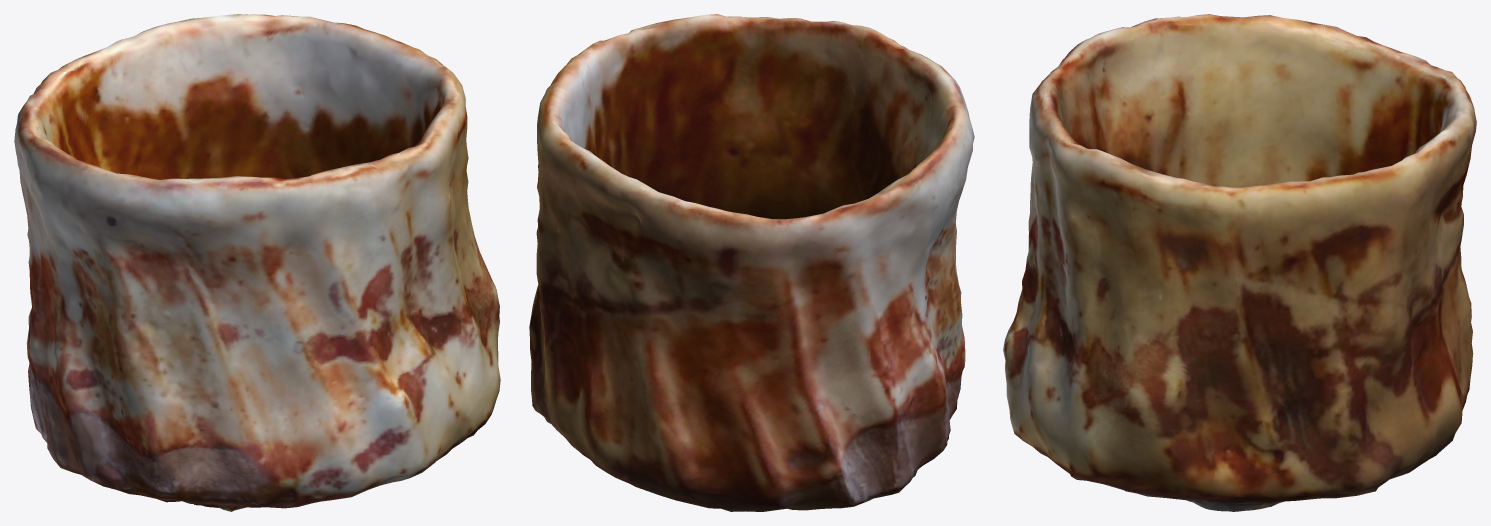
Rendered from red-tea-bowl.glb.
3 renders of one model, left to right at view 1: azimuth 30°, elevation 25°; view 2: azimuth 150°, elevation 25°; view 3: azimuth 270°, elevation 25°, orthographic. The views are drawn at different scales.
Parts seen in each view (by area): view 1: 3Ddata.005; view 2: 3Ddata.005; view 3: 3Ddata.005.
Boxes of the visible parts, box(x1,y1,x2,y2) form: 3Ddata.005: box(14, 14, 500, 511); 3Ddata.005: box(529, 14, 974, 511); 3Ddata.005: box(1003, 14, 1476, 511).
Bounding box in the file's own units: 0.111 × 0.0965 × 0.1116.
1 material, 1 textured.
